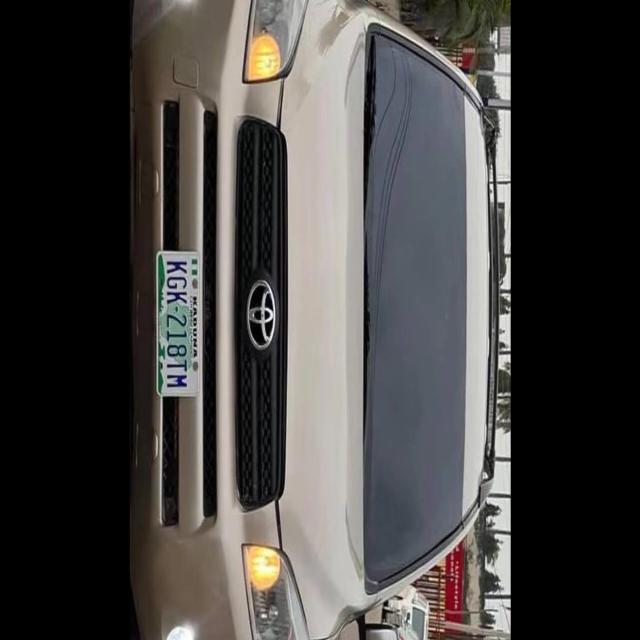Nigerian License Plate - vdataset benjamin-daria: (153, 250, 203, 394)
